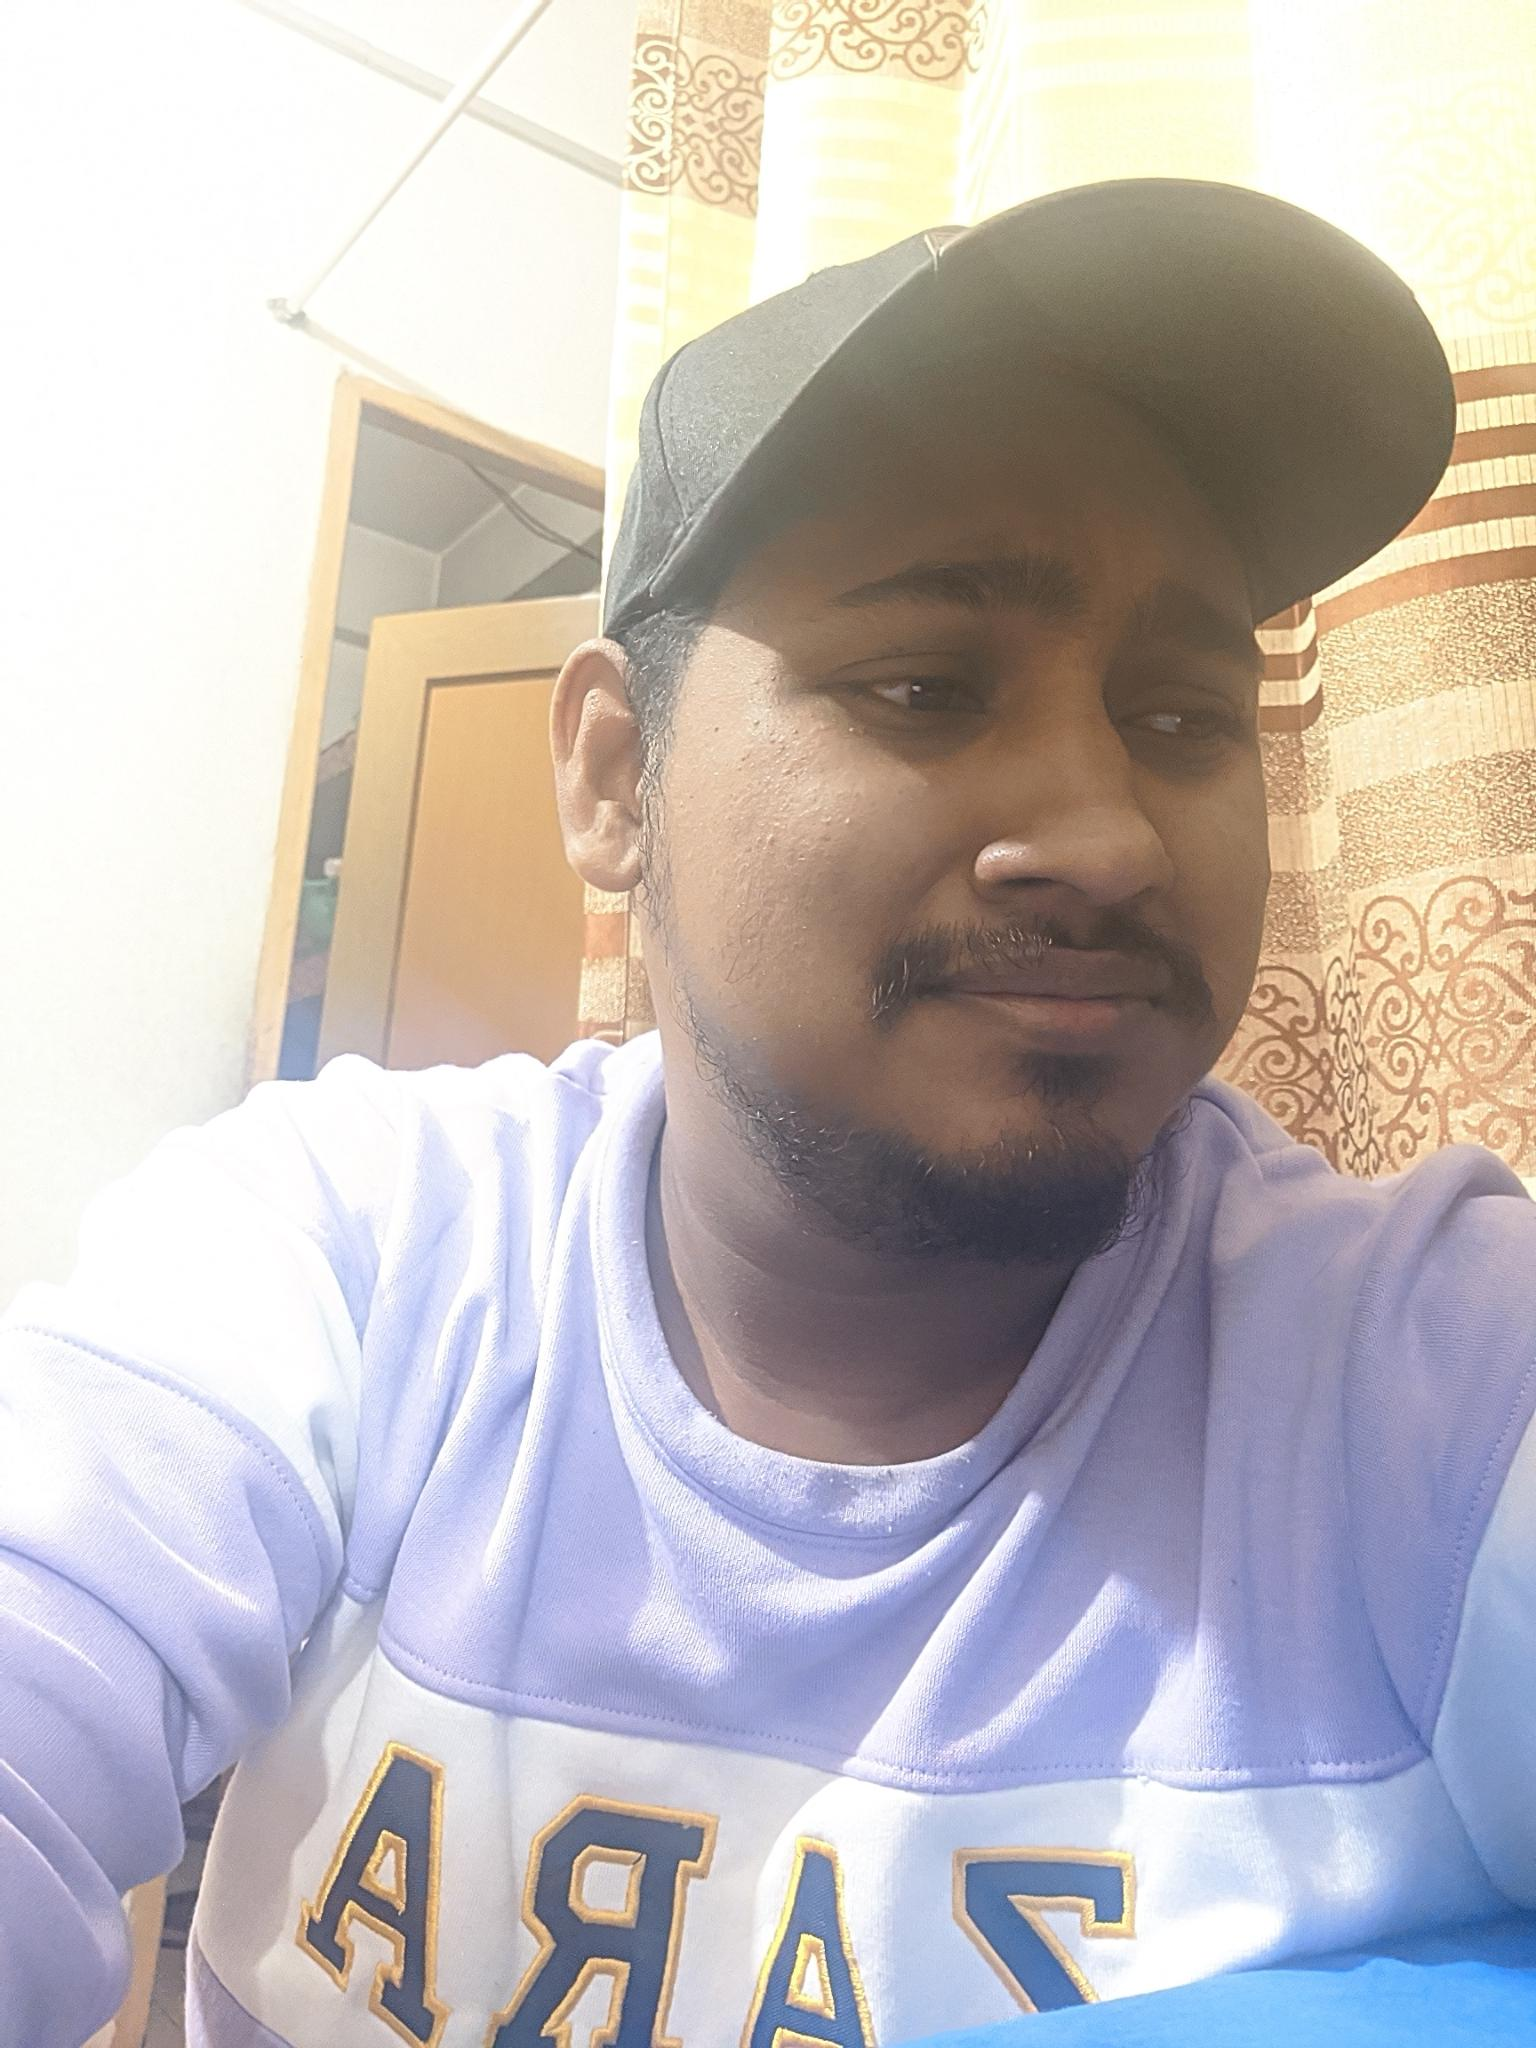Sad: (762, 472, 1300, 1219)
